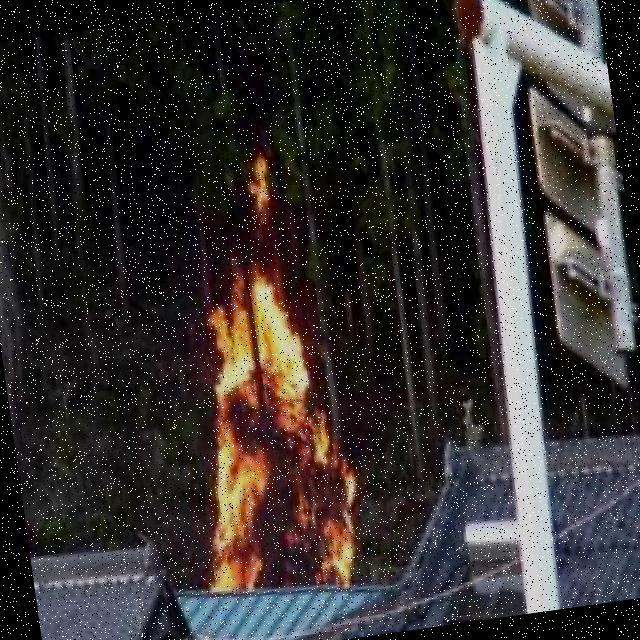Fire: (168, 245, 369, 599)
